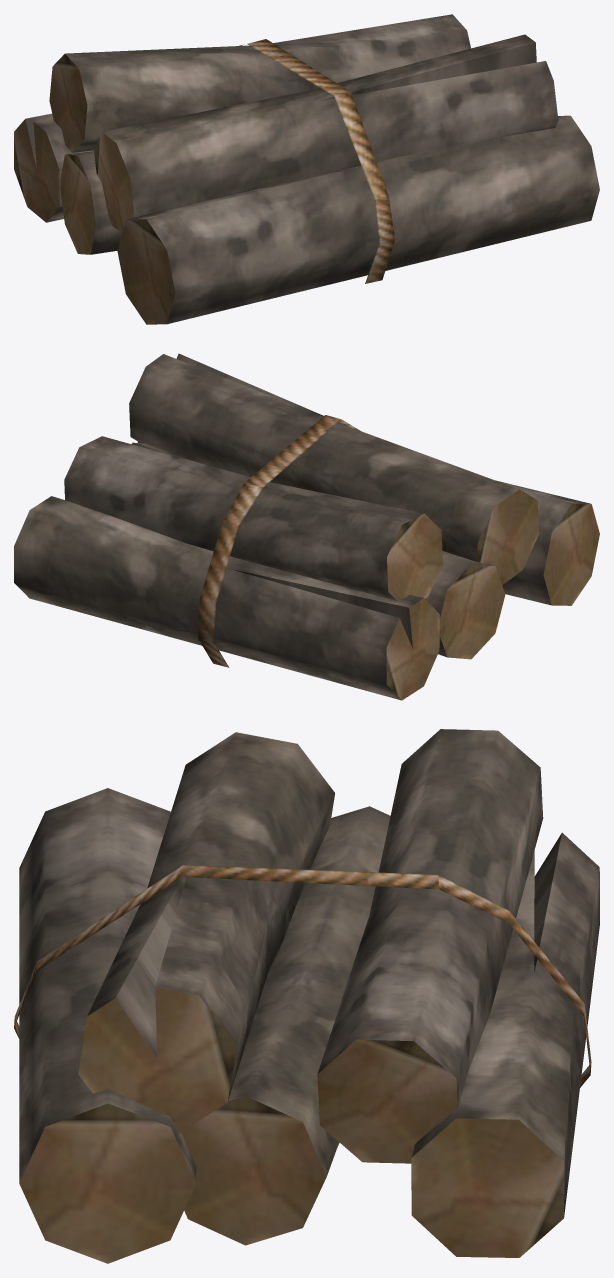
Rendered from handan_field_a_r01.fbx.
3 views of the same model, one above another, from view 1: azimuth 30°, elevation 25°; view 2: azimuth 150°, elevation 25°; view 3: azimuth 270°, elevation 25° (orthographic). The views are drawn at different scales.
Parts seen in each view (by area): view 1: handan_field_a_r01; view 2: handan_field_a_r01; view 3: handan_field_a_r01.
Part boxes in pixels (x1,y1,x2,y2): handan_field_a_r01: (14, 14, 599, 324); handan_field_a_r01: (14, 353, 599, 700); handan_field_a_r01: (14, 729, 599, 1263).
Size of the model in its own units: 103 by 42 by 80.63.
